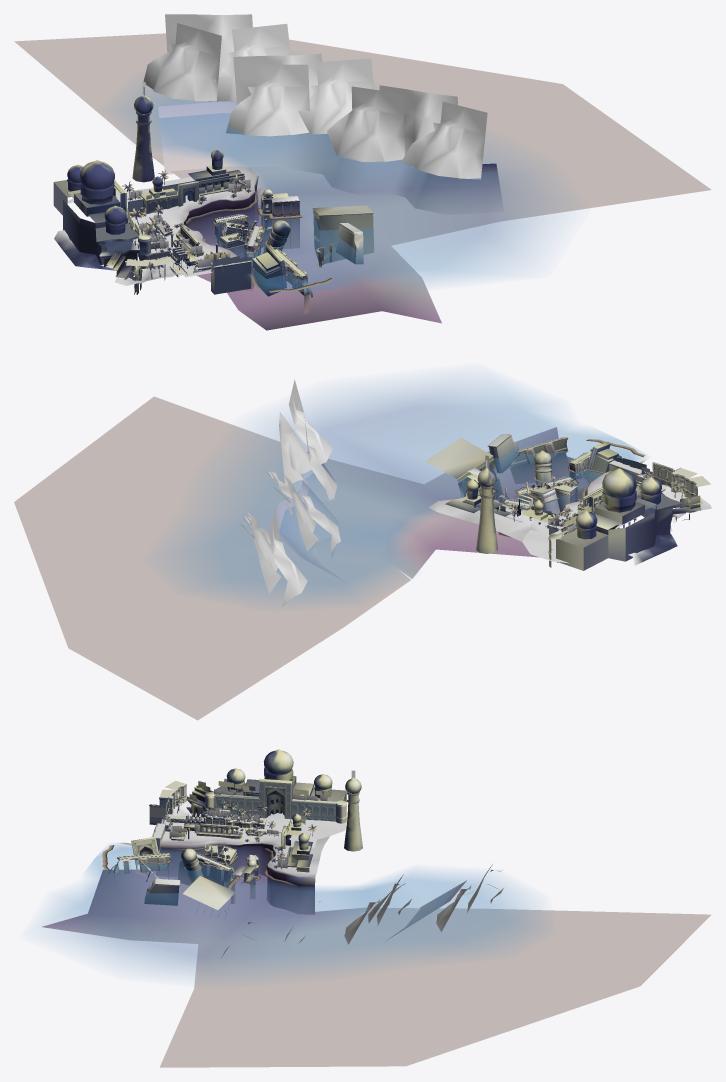
The model's file is 02Islands.gltf.
3 renders of one model, top to bottom at view 1: azimuth 30°, elevation 25°; view 2: azimuth 150°, elevation 25°; view 3: azimuth 270°, elevation 25°, orthographic. The views are drawn at different scales.
Parts seen in each view (by area): view 1: stg013_o12_Mesh_0062, stg013_w12_Mesh_0000, stg013_p19_Mesh_0001, stg013_o32_Mesh_0004, stg013_o12_Mesh_0007, stg013_o12_Mesh_0048, stg013_o12_Mesh_0028, stg013_o19_Mesh_0010, stg013_o12_Mesh_0050, stg013_o12_Mesh_0061, stg013_p13_Mesh_0000, stg013_o12_Mesh_0034 (+13 smaller); view 2: stg013_o12_Mesh_0062, stg013_w12_Mesh_0000, stg013_p19_Mesh_0001, stg013_o12_Mesh_0007, stg013_o12_Mesh_0048, stg013_o12_Mesh_0061, stg013_o32_Mesh_0004, stg013_o19_Mesh_0010, stg013_o12_Mesh_0050, stg013_o12_Mesh_0028, stg013_o12_Mesh_0042, stg013_o19_Mesh_0000 (+6 smaller); view 3: stg013_o12_Mesh_0062, stg013_w12_Mesh_0000, stg013_o12_Mesh_0007, stg013_o19_Mesh_0002, stg013_o12_Mesh_0034, stg013_o12_Mesh_0061, stg013_o19_Mesh_0010, stg013_o12_Mesh_0050, stg013_o12_Mesh_0028, stg013_o12_Mesh_0031, stg013_p19_Mesh_0001, stg013_o12_Mesh_0042 (+10 smaller).
Part boxes in pixels (x1,y1,x2,y2): stg013_o12_Mesh_0062: [14, 33, 711, 330]; stg013_w12_Mesh_0000: [116, 85, 554, 292]; stg013_p19_Mesh_0001: [143, 14, 487, 179]; stg013_o32_Mesh_0004: [158, 101, 503, 214]; stg013_o12_Mesh_0007: [54, 159, 373, 296]; stg013_o12_Mesh_0048: [53, 182, 356, 294]; stg013_o12_Mesh_0028: [126, 176, 374, 295]; stg013_o19_Mesh_0010: [54, 190, 234, 285]; stg013_o12_Mesh_0050: [67, 95, 319, 274]; stg013_o12_Mesh_0061: [106, 170, 372, 278]; stg013_p13_Mesh_0000: [112, 178, 252, 277]; stg013_o12_Mesh_0034: [63, 151, 319, 289]; stg013_o12_Mesh_0062: [14, 396, 594, 720]; stg013_w12_Mesh_0000: [167, 378, 645, 603]; stg013_p19_Mesh_0001: [239, 379, 340, 606]; stg013_o12_Mesh_0007: [446, 434, 710, 562]; stg013_o12_Mesh_0048: [489, 436, 674, 570]; stg013_o12_Mesh_0061: [425, 434, 703, 529]; stg013_o32_Mesh_0004: [276, 452, 342, 580]; stg013_o19_Mesh_0010: [522, 475, 711, 565]; stg013_o12_Mesh_0050: [477, 450, 697, 528]; stg013_o12_Mesh_0028: [457, 438, 672, 537]; stg013_o12_Mesh_0042: [480, 444, 695, 535]; stg013_o19_Mesh_0000: [428, 497, 533, 541]; stg013_o12_Mesh_0062: [42, 823, 711, 1067]; stg013_w12_Mesh_0000: [41, 844, 540, 978]; stg013_o12_Mesh_0007: [118, 767, 346, 913]; stg013_o19_Mesh_0002: [156, 845, 314, 914]; stg013_o12_Mesh_0034: [118, 781, 360, 883]; stg013_o12_Mesh_0061: [152, 786, 318, 909]; stg013_o19_Mesh_0010: [161, 795, 347, 842]; stg013_o12_Mesh_0050: [118, 749, 361, 867]; stg013_o12_Mesh_0028: [114, 788, 335, 903]; stg013_o12_Mesh_0031: [133, 769, 359, 868]; stg013_p19_Mesh_0001: [221, 864, 503, 957]; stg013_o12_Mesh_0042: [124, 782, 359, 887].
Bounding box in the file's own units: 931 × 224 × 1138.
